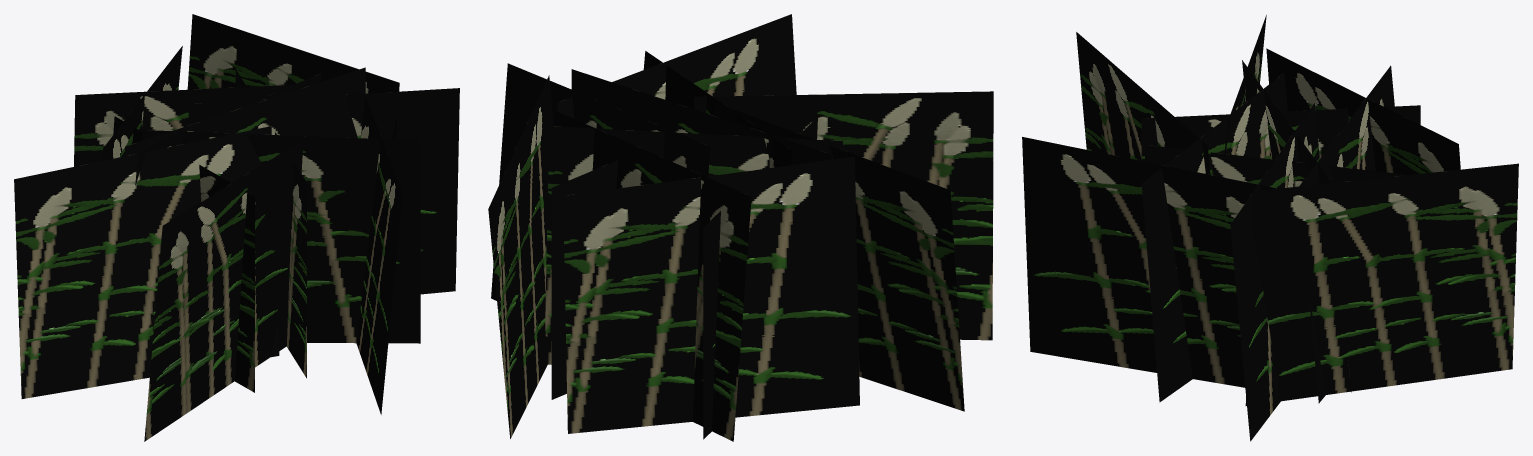
File: vass.fbx
3 renders of one model, left to right at view 1: azimuth 30°, elevation 25°; view 2: azimuth 150°, elevation 25°; view 3: azimuth 270°, elevation 25°, orthographic. The views are drawn at different scales.
Visible parts, largest first — view 1: vass01; view 2: vass01; view 3: vass01.
Boxes of the visible parts, x1=… form: vass01: x1=14, y1=14, x2=459, y2=441; vass01: x1=488, y1=14, x2=993, y2=441; vass01: x1=1022, y1=15, x2=1518, y2=441.
Size of the model in its own units: 2.97 by 1.55 by 2.89.
